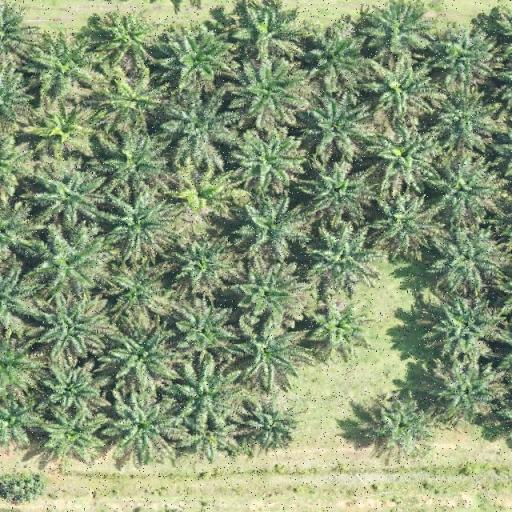Ganoderma: (176, 175, 222, 219), (44, 110, 86, 152)
